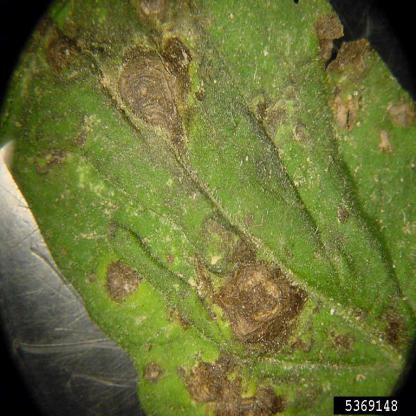Potato leaf early blight: (5, 1, 415, 410)
